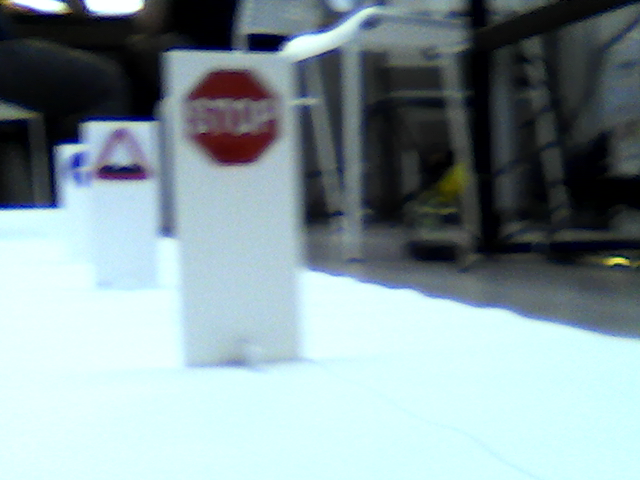Nerov: (93, 127, 155, 183)
Stop: (187, 67, 279, 165)
